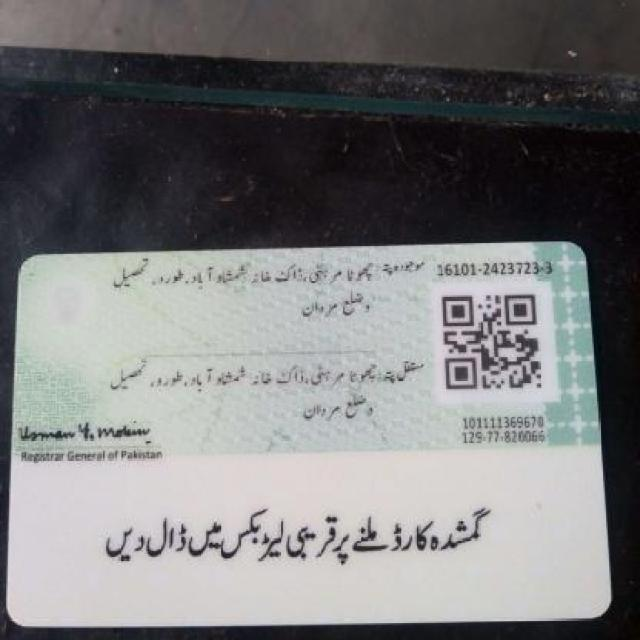Back: (11, 245, 615, 624)
